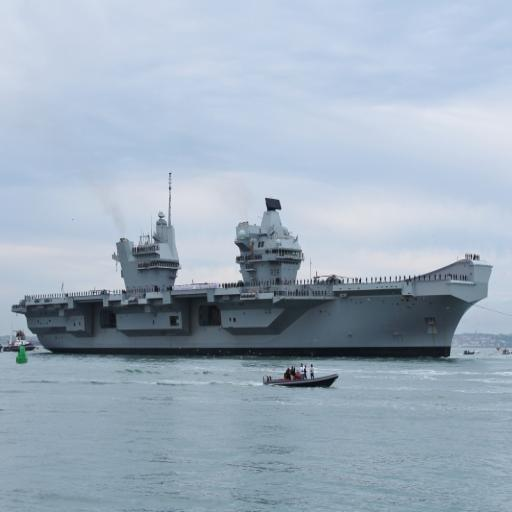Portanaves: (8, 182, 495, 363)
